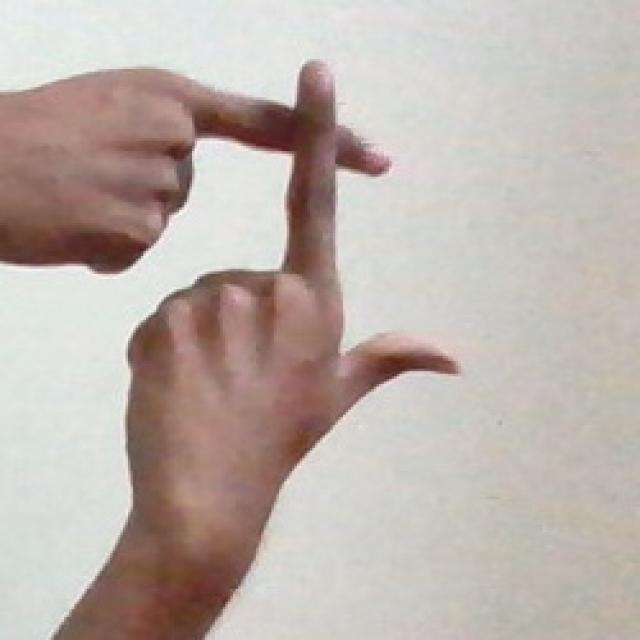Alphabet-J: (0, 48, 515, 556)
